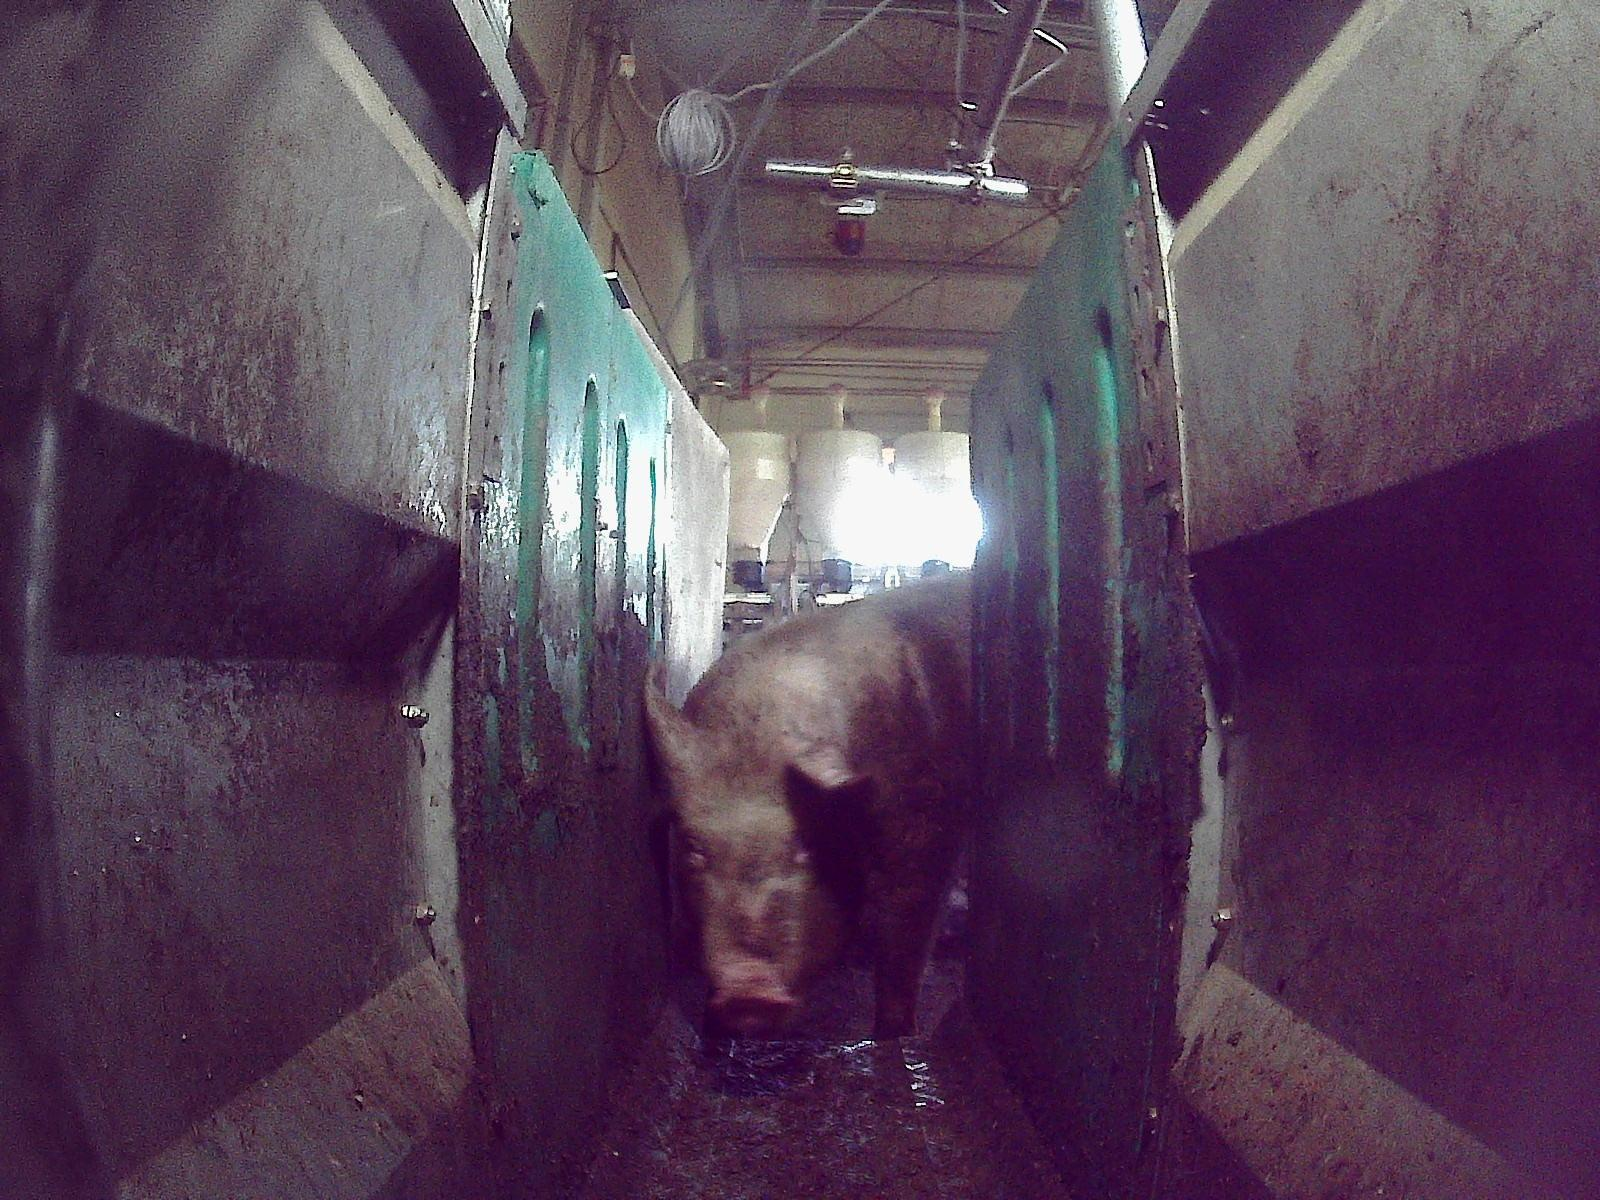Face: (662, 728, 857, 1029)
